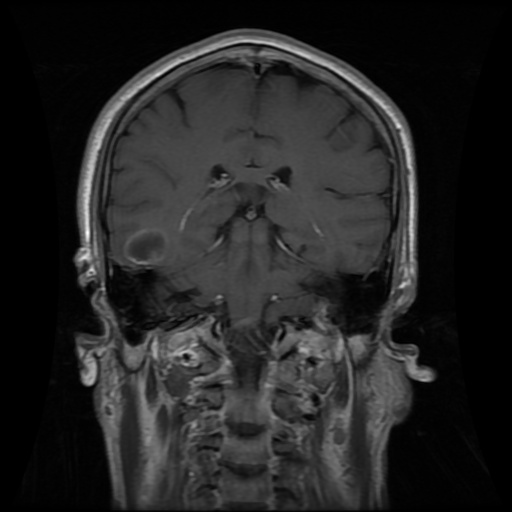glioma: (122, 226, 172, 265)
